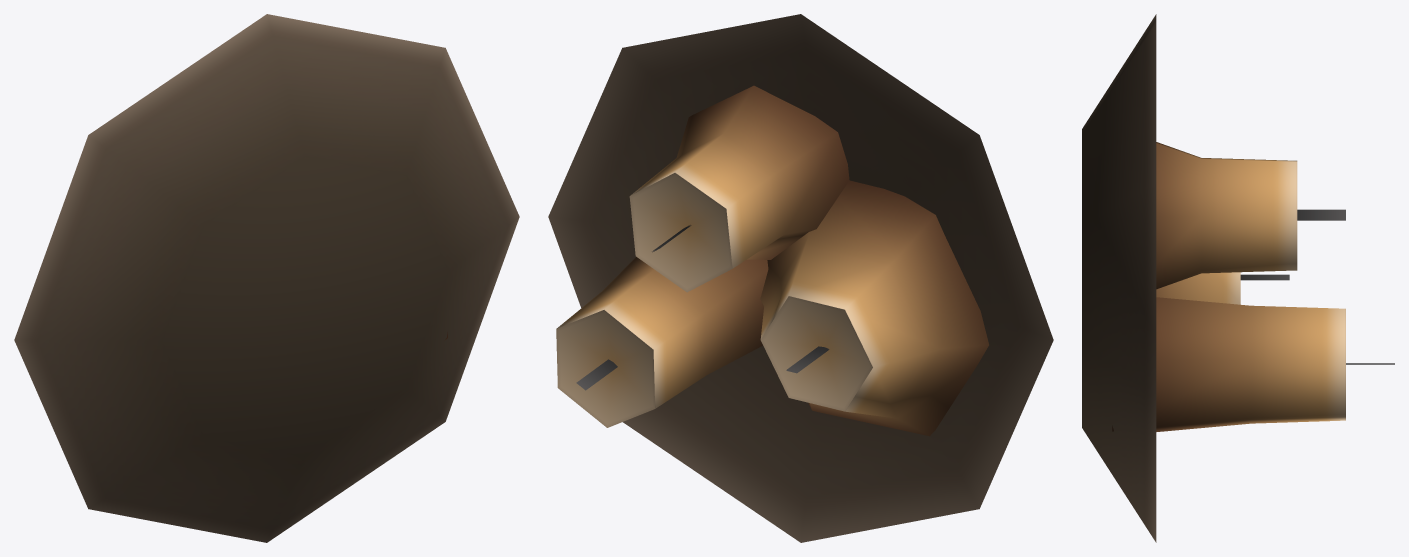
Rendered from Candle_Plate_A.fbx.
3 renders of one model, left to right at view 1: azimuth 30°, elevation 25°; view 2: azimuth 150°, elevation 25°; view 3: azimuth 270°, elevation 25°, orthographic. The views are drawn at different scales.
Parts seen in each view (by area): view 1: Candle_Plate_A; view 2: Candle_Plate_A; view 3: Candle_Plate_A.
Boxes of the visible parts, x1,y1,x2,y2 form: Candle_Plate_A: [14, 14, 519, 542]; Candle_Plate_A: [548, 14, 1053, 542]; Candle_Plate_A: [1082, 14, 1394, 542].
Size of the model in its own units: 0.6229 by 0.6229 by 0.346.
